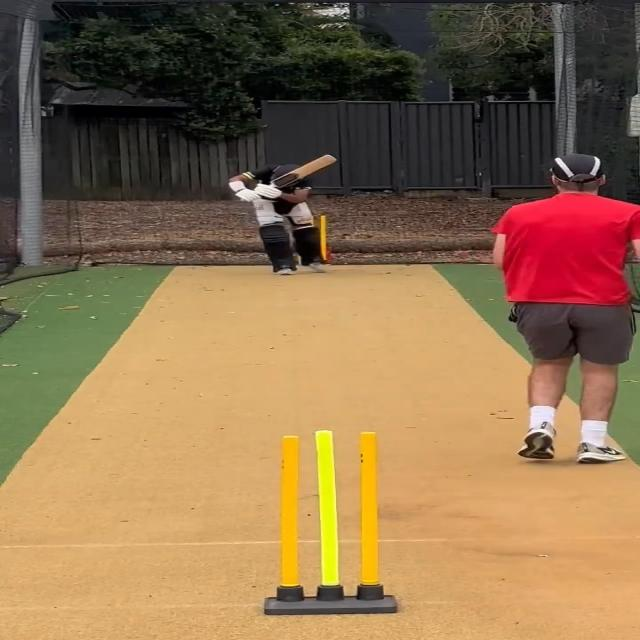stump: (259, 430, 396, 617)
